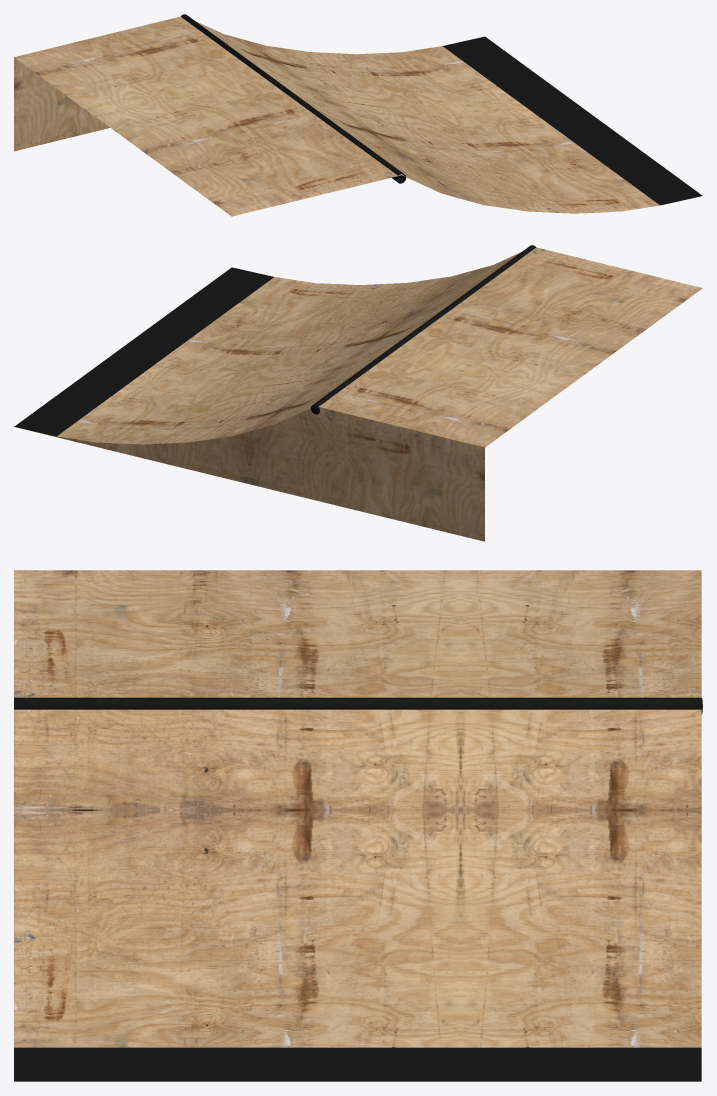
The model's file is rampC.fbx.
3 views of the same model, one above another, from view 1: azimuth 30°, elevation 25°; view 2: azimuth 150°, elevation 25°; view 3: azimuth 270°, elevation 25° (orthographic). The views are drawn at different scales.
Parts seen in each view (by area): view 1: rampC, rampCcoping; view 2: rampC, rampCcoping; view 3: rampC, rampCcoping.
Boxes of the visible parts, left/top/right/bottom form: rampC: left=14, top=16, right=702, bottom=216; rampCcoping: left=181, top=14, right=406, bottom=183; rampC: left=14, top=247, right=702, bottom=541; rampCcoping: left=310, top=245, right=536, bottom=414; rampC: left=14, top=570, right=701, bottom=1081; rampCcoping: left=14, top=697, right=702, bottom=714.
Bounding box in the file's own units: 300 × 58.25 × 241.
